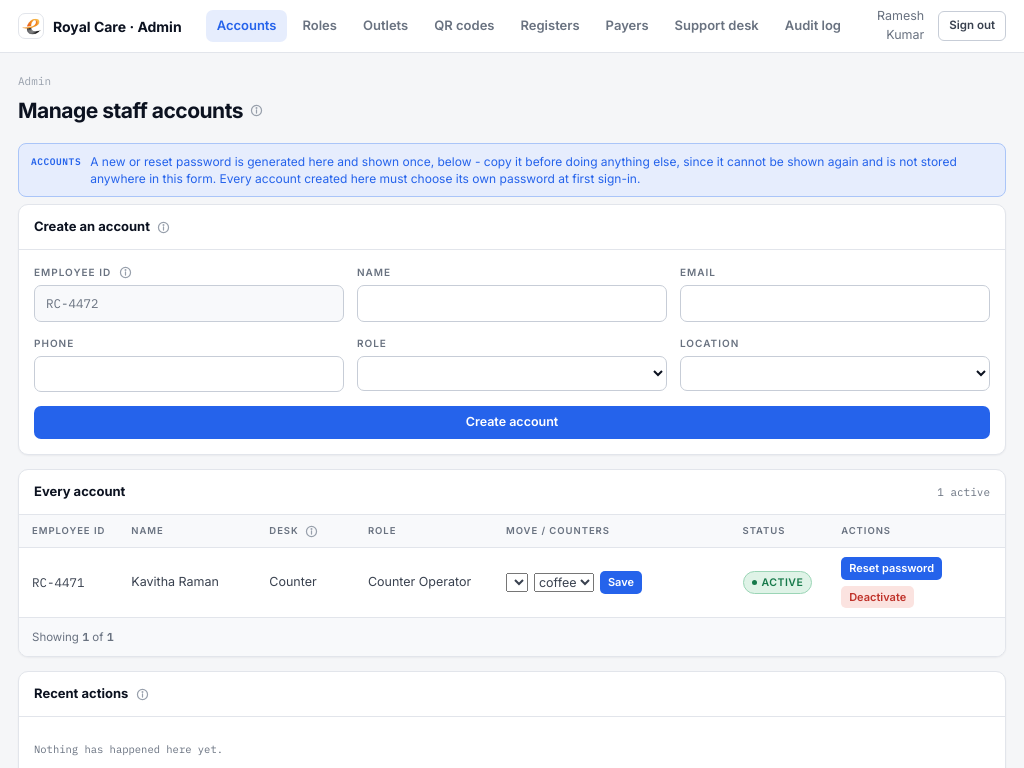
Test case: the audit log tab › lists today's events, newest first, with who, what and the outcome, and counts the whole filter
Click the tab "Audit log". click: [813, 26]
box: [774,10,852,42]
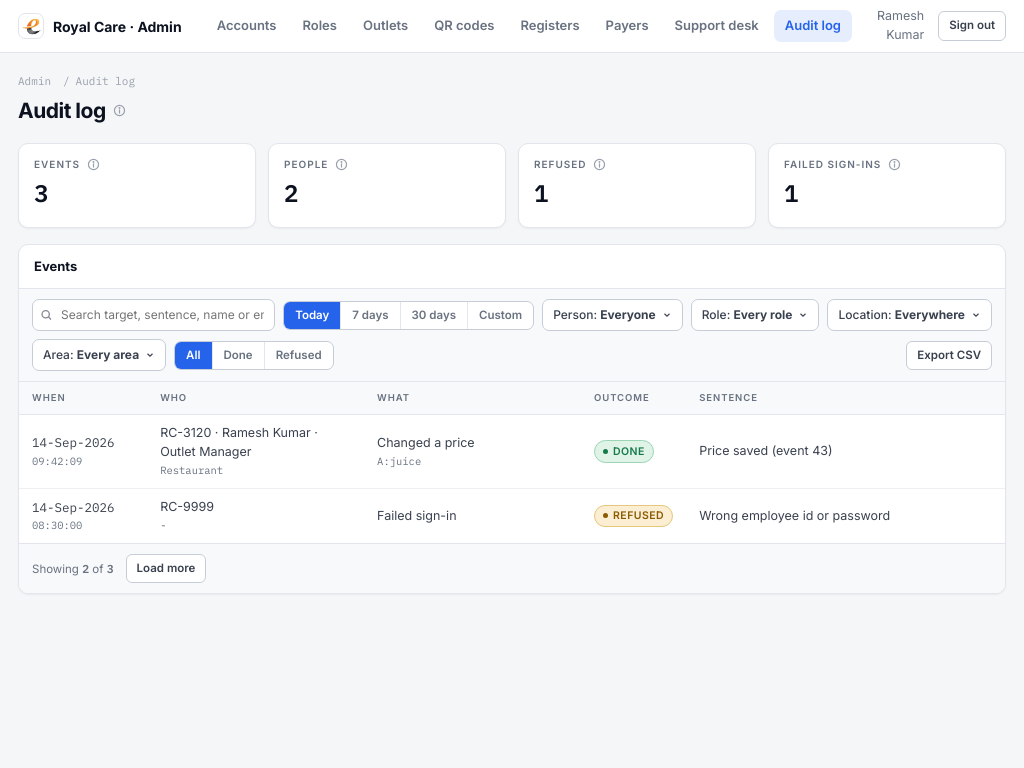
Expected: the row that starts with "14-Sep-2026" is shown, [32,434,114,450]
Expected: the row that starts with "14-Sep-2026" shows "09:42:09", [32,454,82,468]
Expected: the row that starts with "14-Sep-2026" shows "RC-3120 · Ramesh Kumar · Outlet Manager", [160,425,318,459]
